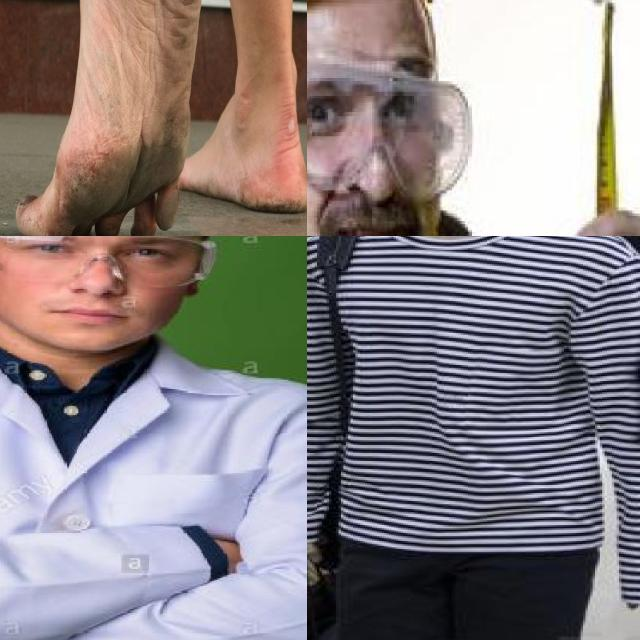Barefoots: (14, 0, 235, 236), (170, 95, 307, 213)
face_nomask: (307, 70, 453, 236), (11, 236, 172, 328)
glasses: (307, 44, 476, 204), (0, 236, 215, 291)
head_nohelmet: (307, 0, 448, 62)
person: (307, 236, 640, 640), (0, 236, 307, 640), (307, 0, 640, 236)
